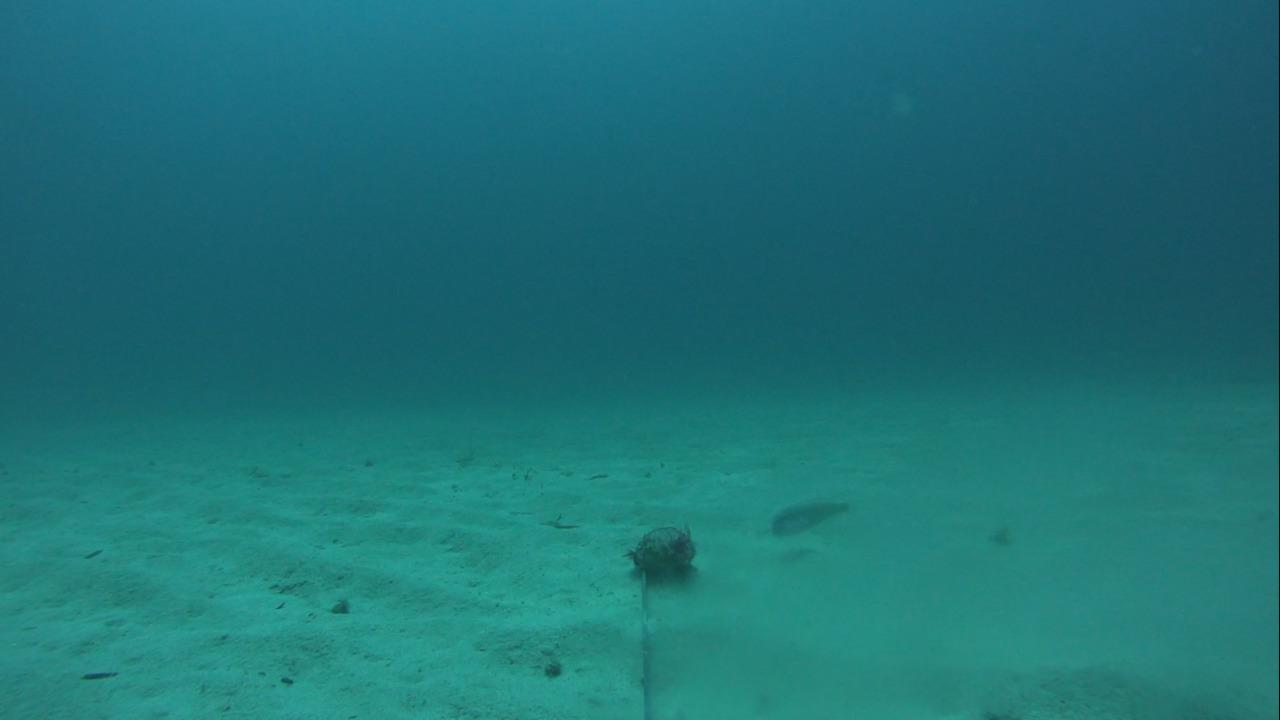raor: (765, 493, 859, 545)
